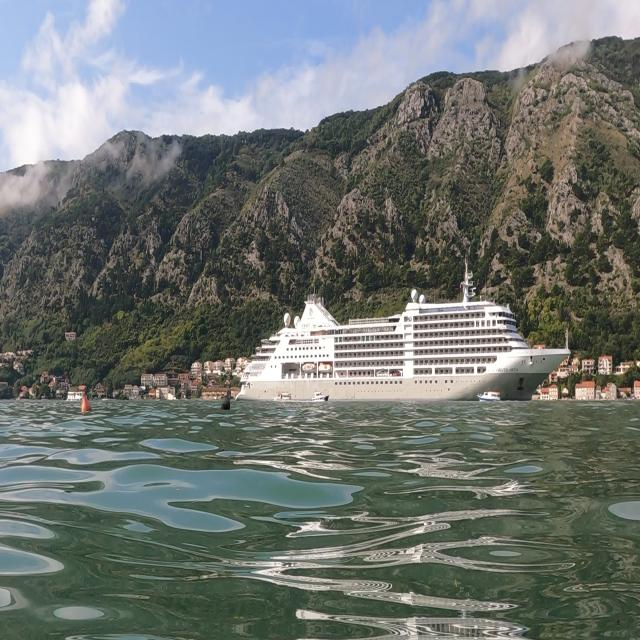boat: (233, 254, 572, 405)
buoy: (74, 384, 96, 419), (217, 387, 237, 420)
